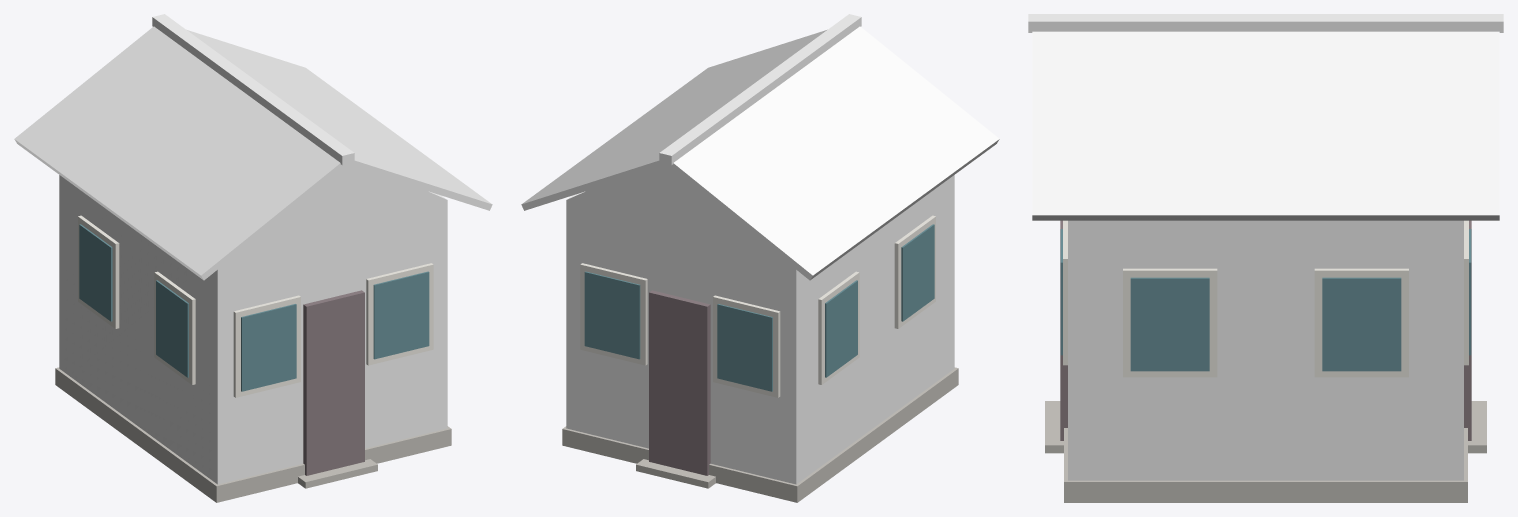
File: casa.glb
3 views of the same model, side by side, from view 1: azimuth 30°, elevation 25°; view 2: azimuth 150°, elevation 25°; view 3: azimuth 270°, elevation 25° (orthographic). The views are drawn at different scales.
Parts seen in each view (by area): view 1: Casa; view 2: Casa; view 3: Casa.
Boxes of the visible parts, x1=… form: Casa: x1=14, y1=14, x2=492, y2=502; Casa: x1=521, y1=14, x2=999, y2=502; Casa: x1=1028, y1=14, x2=1503, y2=502.
Size of the model in its own units: 3.3 by 3.57 by 3.72.
